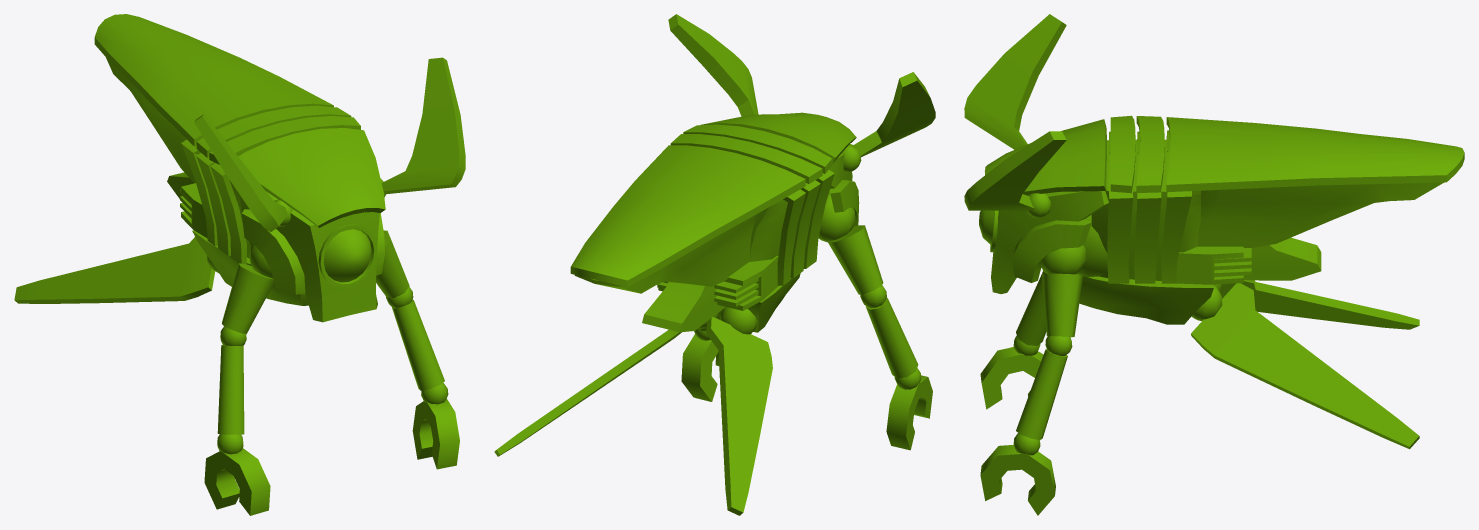
3 views of the same model, side by side, from view 1: azimuth 30°, elevation 25°; view 2: azimuth 150°, elevation 25°; view 3: azimuth 270°, elevation 25° (orthographic).
Parts seen in each view (by area): view 1: polySurface216; view 2: polySurface216; view 3: polySurface216.
Boxes of the visible parts, x1,y1,x2,y2 form: polySurface216: (14,14,465,515); polySurface216: (494,14,935,515); polySurface216: (964,14,1464,515).
Bounding box in the file's own units: 33.87 × 49.76 × 57.77.
